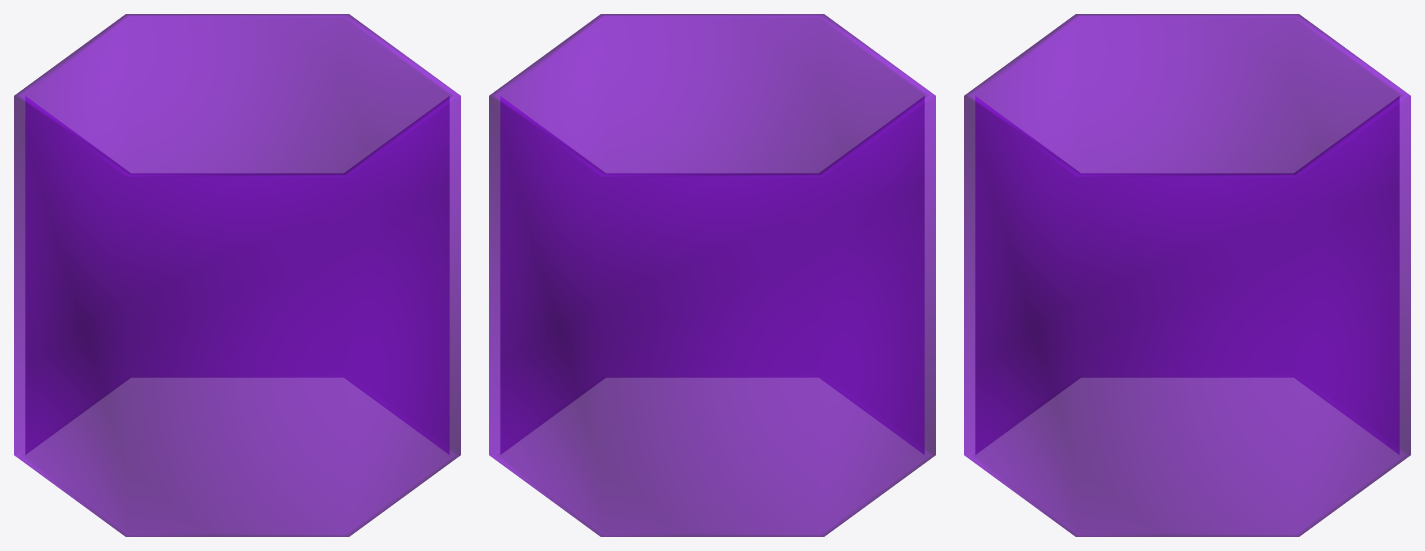
The model's file is gradient_hex_test (1).fbx.
3 renders of one model, left to right at view 1: azimuth 30°, elevation 25°; view 2: azimuth 150°, elevation 25°; view 3: azimuth 270°, elevation 25°, orthographic.
Visible parts, largest first — view 1: Cylinder; view 2: Cylinder; view 3: Cylinder.
Boxes of the visible parts, left/top/right/bottom form: Cylinder: left=14, top=14, right=460, bottom=536; Cylinder: left=489, top=14, right=935, bottom=536; Cylinder: left=964, top=14, right=1410, bottom=536.
Size of the model in its own units: 173 by 177 by 200.
